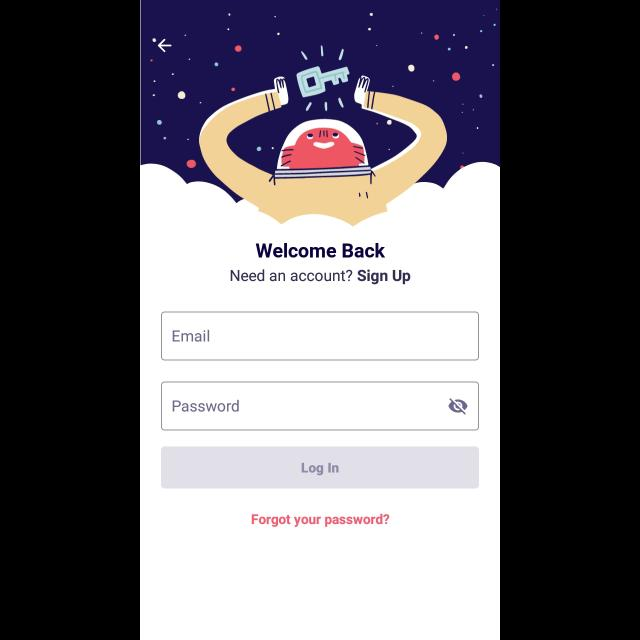icon: (448, 398, 468, 416), (158, 39, 172, 53)
image: (140, 1, 500, 227)
input: (161, 382, 479, 431), (161, 312, 479, 361)
text: (231, 270, 411, 284), (255, 242, 385, 258), (252, 513, 390, 527), (173, 400, 239, 412), (173, 330, 210, 342)
textbutton: (161, 447, 479, 489)
